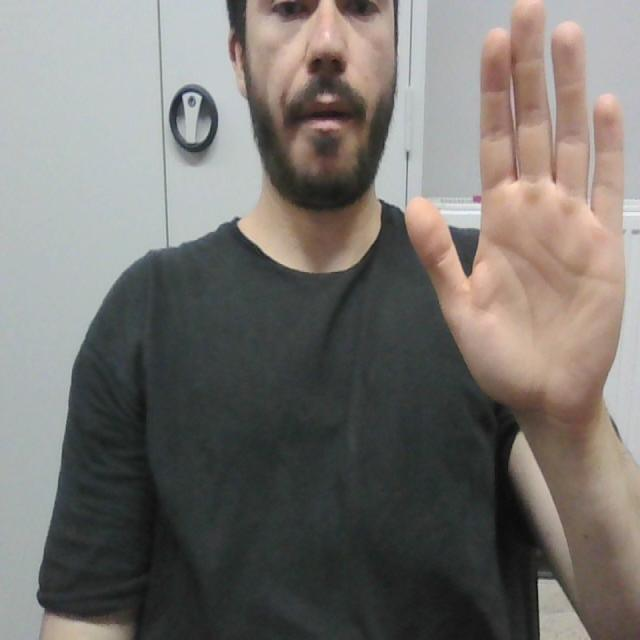Dur: (403, 0, 631, 410)
